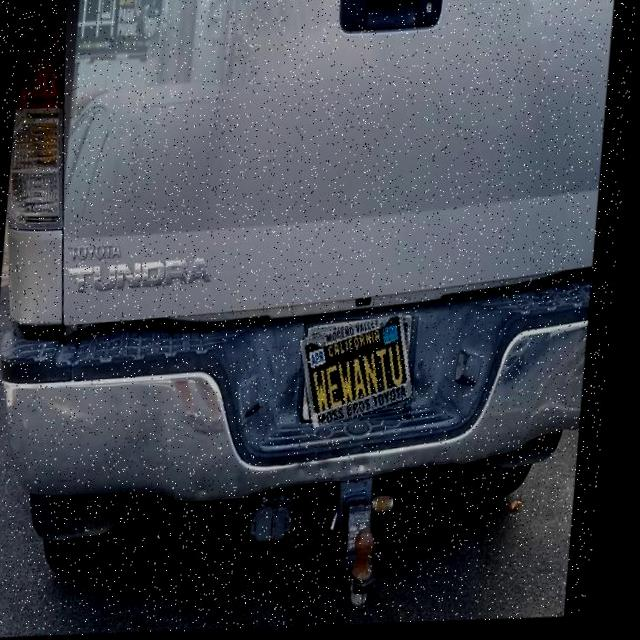LicensePlate: (303, 320, 425, 426)
